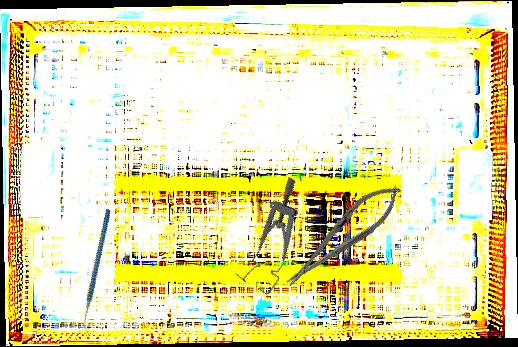Chopper: (46, 208, 150, 336)
Needle Holder: (276, 174, 410, 297)
Speculum: (226, 176, 330, 297)
